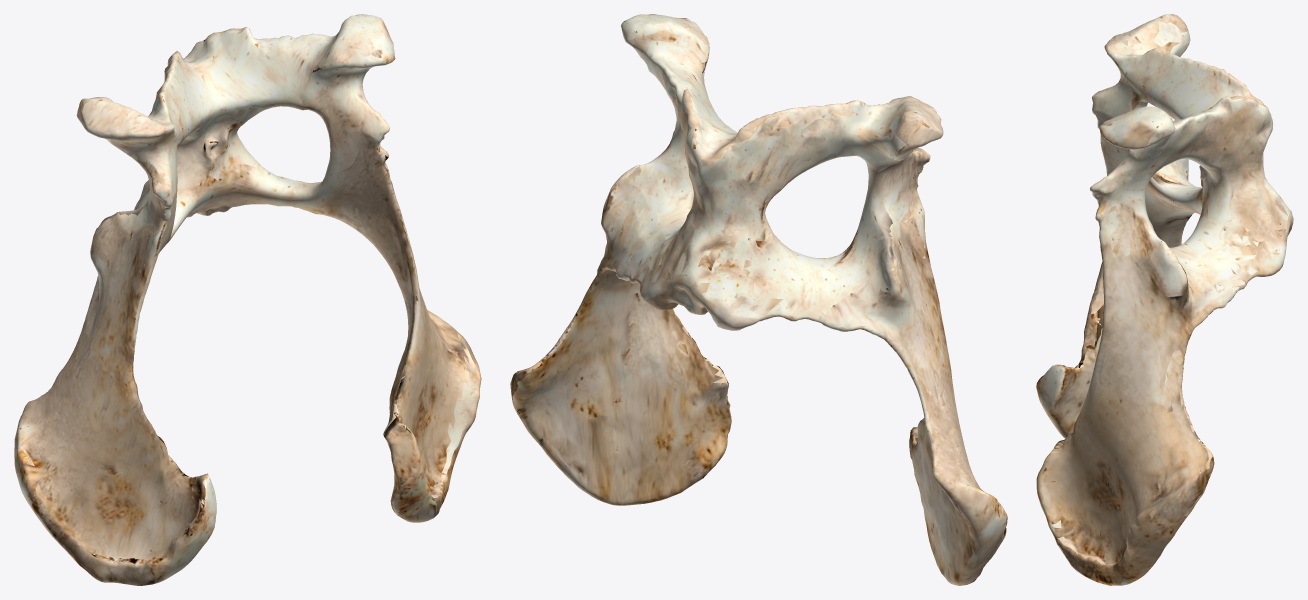
The model's file is Sacrum_bone-s2 .glb.
3 renders of one model, left to right at view 1: azimuth 30°, elevation 25°; view 2: azimuth 150°, elevation 25°; view 3: azimuth 270°, elevation 25°, orthographic. The views are drawn at different scales.
Visible parts, largest first — view 1: sacrum-bon; view 2: sacrum-bon; view 3: sacrum-bon.
Boxes of the visible parts, bbox=[...] form: sacrum-bon: bbox=[14, 14, 481, 585]; sacrum-bon: bbox=[510, 14, 1007, 585]; sacrum-bon: bbox=[1036, 14, 1293, 585].
Size of the model in its own units: 0.4137 by 0.4238 by 0.2193.
Materials: 1 (1 with a texture image).
